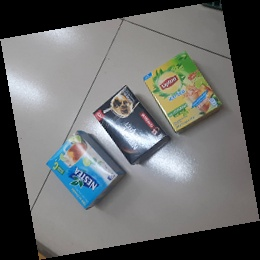CF Viet: (91, 85, 172, 166)
LipTon: (142, 50, 224, 133)
Nestea: (44, 129, 125, 210)
